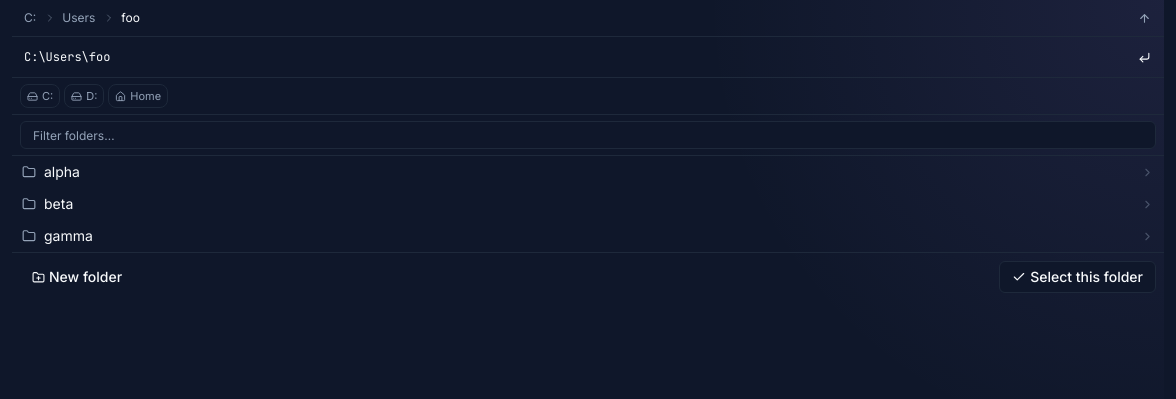
PathPickerBrowser › shows an inline error and keeps the current path when a jump fails
Check: the button with test id "path-picker-row-alpha" is shown, box [12,156,1164,188]
Replace the text in the field with test id "path-picker-input" with "Q:\\nope" at (573, 57), box [20,43,1126,71]
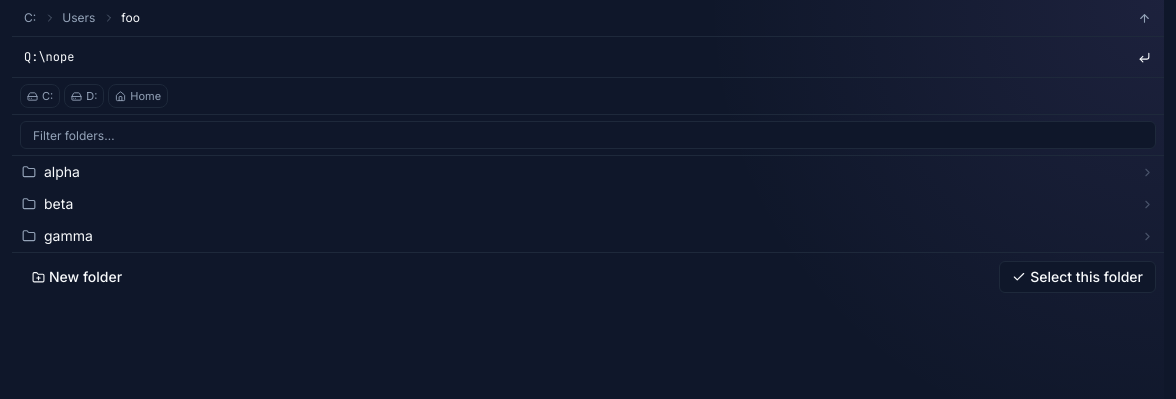
Press Enter in the field with test id "path-picker-input", box [20,43,1126,71]
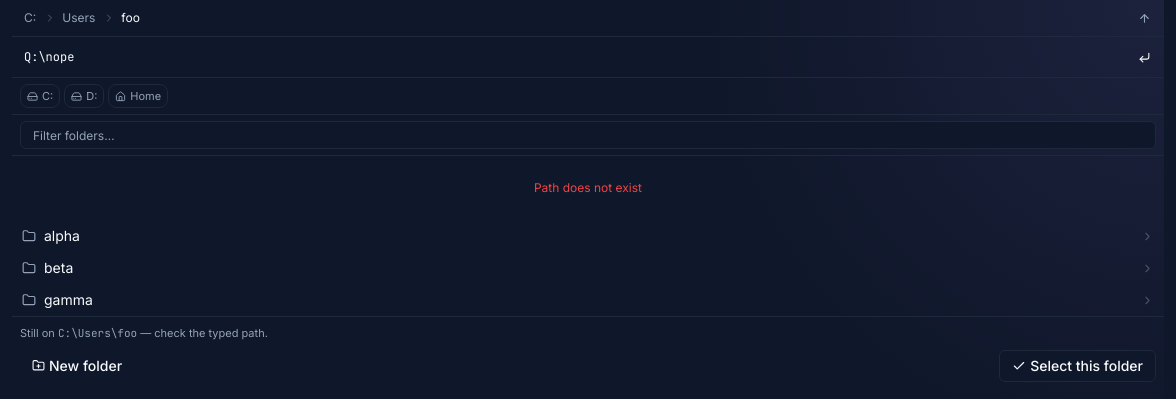
Check: the button with test id "path-picker-row-alpha" is shown, box [12,220,1164,252]
Check: the text "Path does not exist" is shown, box [534,180,642,195]
